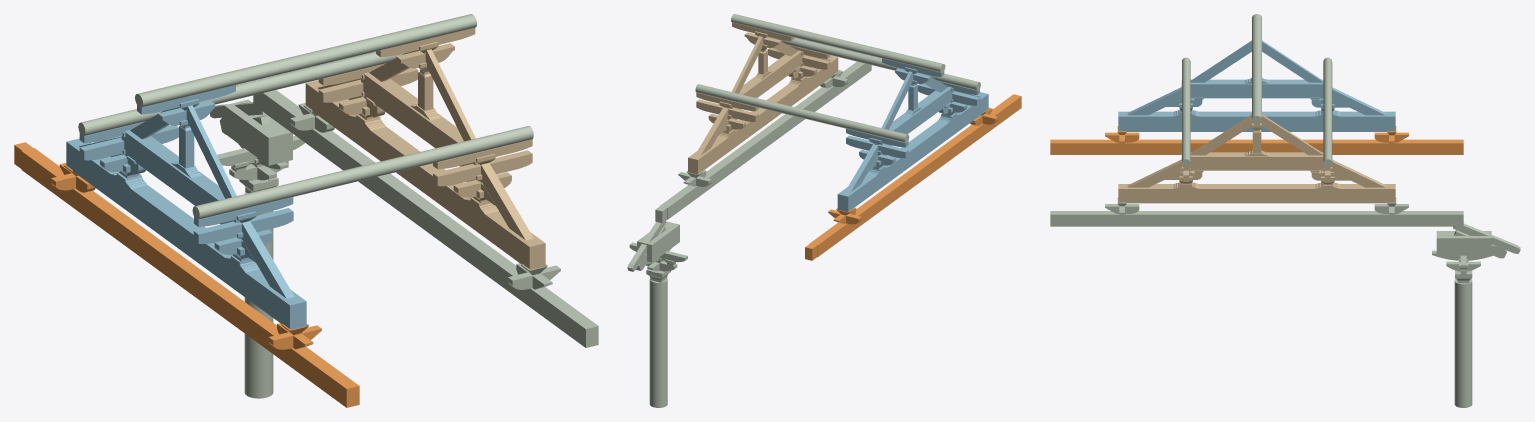
The model's file is WANFO_WEST_SPACER_89_TRIAL_V001.glb.
3 renders of one model, left to right at view 1: azimuth 30°, elevation 25°; view 2: azimuth 150°, elevation 25°; view 3: azimuth 270°, elevation 25°, orthographic. The views are drawn at different scales.
Parts seen in each view (by area): view 1: trial:WEST_UPPER6_FULL_BEAM_CANDIDATE, trial:EAST_UPPER6_FULL_BEAM_CANDIDATE, west:FOUR_BEAM, east:FOUR_BEAM, RIDGE_PURLIN, UPPER_PURLIN_REAR, UPPER_PURLIN_FRONT, west:PINGLIANG, east:PINGLIANG, trial:EAST_FRONT_LOWER6_END_SEGMENT, trial:EAST_FRONT_COLUMN_CANDIDATE, west:PANJIAN_FANG_REAR (+20 smaller); view 2: trial:WEST_UPPER6_FULL_BEAM_CANDIDATE, trial:EAST_UPPER6_FULL_BEAM_CANDIDATE, west:FOUR_BEAM, east:FOUR_BEAM, trial:EAST_FRONT_COLUMN_CANDIDATE, RIDGE_PURLIN, UPPER_PURLIN_FRONT, UPPER_PURLIN_REAR, west:PINGLIANG, east:PINGLIANG, trial:EAST_FRONT_LOWER6_END_SEGMENT, west:PANJIAN_FANG_FRONT (+9 smaller); view 3: trial:EAST_UPPER6_FULL_BEAM_CANDIDATE, trial:WEST_UPPER6_FULL_BEAM_CANDIDATE, east:FOUR_BEAM, west:FOUR_BEAM, trial:EAST_FRONT_COLUMN_CANDIDATE, east:PINGLIANG, west:PINGLIANG, trial:EAST_FRONT_LOWER6_END_SEGMENT, RIDGE_PURLIN, UPPER_PURLIN_FRONT, UPPER_PURLIN_REAR, east:CHASHOU_REAR (+8 smaller).
Part boxes in pixels (x1,y1,x2,y2): trial:WEST_UPPER6_FULL_BEAM_CANDIDATE: [14, 142, 359, 407]; trial:EAST_UPPER6_FULL_BEAM_CANDIDATE: [253, 90, 598, 347]; west:FOUR_BEAM: [66, 138, 306, 329]; east:FOUR_BEAM: [305, 80, 545, 269]; RIDGE_PURLIN: [135, 14, 476, 107]; UPPER_PURLIN_REAR: [192, 126, 533, 219]; UPPER_PURLIN_FRONT: [78, 51, 404, 136]; west:PINGLIANG: [121, 129, 239, 224]; east:PINGLIANG: [361, 72, 478, 166]; trial:EAST_FRONT_LOWER6_END_SEGMENT: [224, 99, 292, 165]; trial:EAST_FRONT_COLUMN_CANDIDATE: [244, 192, 273, 398]; west:PANJIAN_FANG_REAR: [193, 208, 293, 244]; trial:WEST_UPPER6_FULL_BEAM_CANDIDATE: [805, 94, 1021, 260]; trial:EAST_UPPER6_FULL_BEAM_CANDIDATE: [655, 61, 871, 223]; west:FOUR_BEAM: [837, 92, 988, 211]; east:FOUR_BEAM: [688, 55, 838, 174]; trial:EAST_FRONT_COLUMN_CANDIDATE: [649, 278, 667, 407]; RIDGE_PURLIN: [731, 14, 945, 72]; UPPER_PURLIN_FRONT: [695, 84, 909, 142]; UPPER_PURLIN_REAR: [777, 37, 980, 90]; west:PINGLIANG: [880, 86, 953, 145]; east:PINGLIANG: [730, 50, 803, 109]; trial:EAST_FRONT_LOWER6_END_SEGMENT: [637, 221, 679, 262]; west:PANJIAN_FANG_FRONT: [846, 135, 908, 158]; trial:EAST_UPPER6_FULL_BEAM_CANDIDATE: [1050, 211, 1463, 226]; trial:WEST_UPPER6_FULL_BEAM_CANDIDATE: [1050, 139, 1463, 154]; east:FOUR_BEAM: [1118, 184, 1395, 203]; west:FOUR_BEAM: [1118, 111, 1395, 131]; trial:EAST_FRONT_COLUMN_CANDIDATE: [1454, 279, 1472, 407]; east:PINGLIANG: [1189, 152, 1324, 170]; west:PINGLIANG: [1190, 79, 1323, 98]; trial:EAST_FRONT_LOWER6_END_SEGMENT: [1436, 231, 1491, 255]; RIDGE_PURLIN: [1252, 14, 1261, 122]; UPPER_PURLIN_FRONT: [1323, 57, 1332, 166]; UPPER_PURLIN_REAR: [1182, 57, 1190, 166]; east:CHASHOU_REAR: [1190, 114, 1253, 155].
Bounding box in the file's own units: 6198 × 8684 × 12187.
